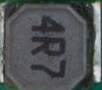Induktor: (1, 0, 99, 87)
